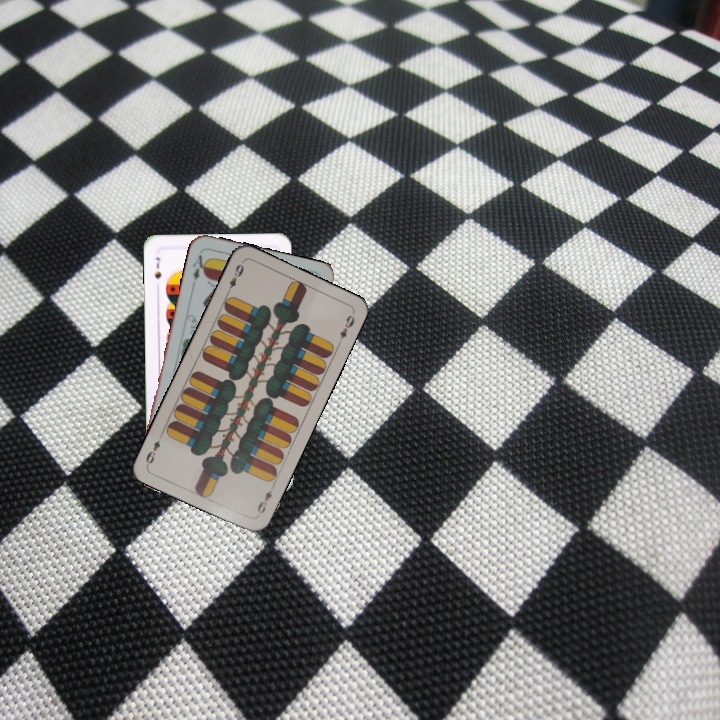E9: (223, 258, 246, 296), (253, 481, 276, 519)
EA: (189, 251, 210, 283)
S7: (150, 253, 164, 282)
